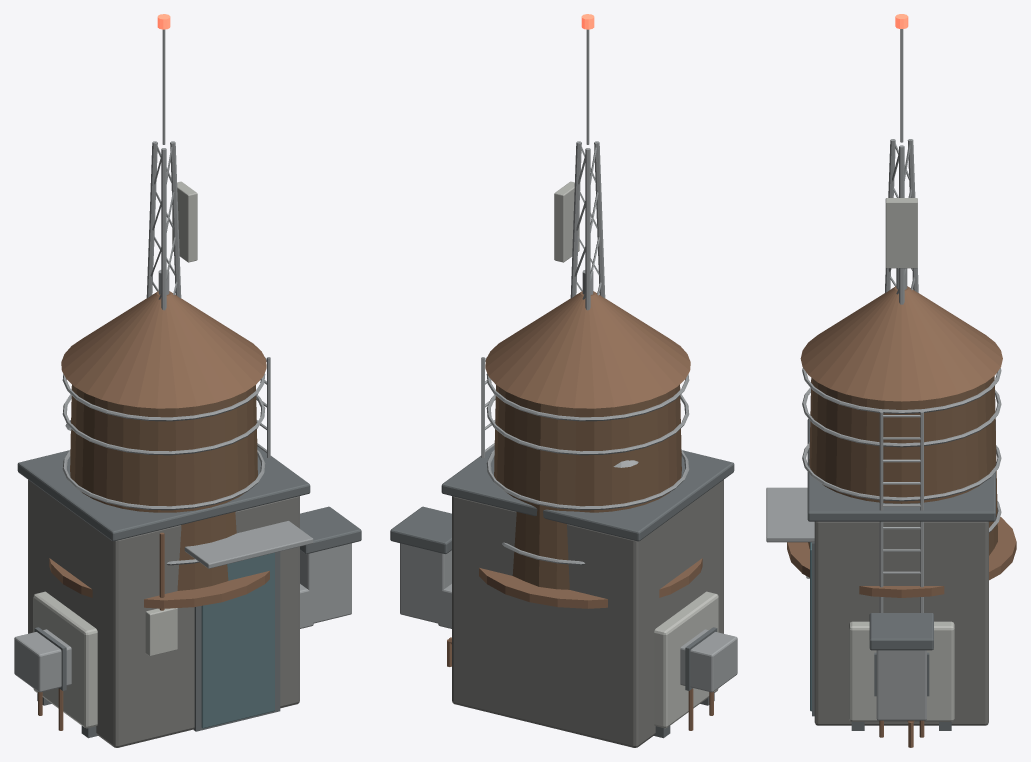
Rendered from rooftop80.glb.
3 views of the same model, side by side, from view 1: azimuth 30°, elevation 25°; view 2: azimuth 150°, elevation 25°; view 3: azimuth 270°, elevation 25° (orthographic).
Parts seen in each view (by area): view 1: shack-body, wt-barrel, wt-cap, shack-door, shack-cap, hvacwide-cab, duct-elbow, duct-run, shack-canopy, wt-deck, shack-frame, duct-hood (+8 smaller); view 2: shack-body, wt-barrel, wt-cap, shack-cap, hvacwide-cab, duct-elbow, duct-run, wt-deck, duct-hood, mast-panel.001, wt-hoop.002, wt-hoop.001 (+4 smaller); view 3: shack-body, wt-barrel, wt-cap, shack-cap, hvacwide-cab, duct-elbow, wt-deck, shack-canopy, duct-hood, mast-panel.001, wt-hoop.002, wt-hoop.001 (+8 smaller).
Boxes of the visible parts, x1,y1,x2,y2 form: shack-body: (28, 480, 299, 747); wt-barrel: (70, 384, 257, 590); wt-cap: (61, 291, 266, 408); shack-door: (201, 552, 274, 728); shack-cap: (17, 446, 310, 541); hvacwide-cab: (33, 591, 97, 728); duct-elbow: (300, 543, 351, 623); duct-run: (14, 584, 313, 692); shack-canopy: (184, 521, 313, 568); wt-deck: (49, 558, 269, 608); shack-frame: (193, 551, 280, 731); duct-hood: (300, 506, 361, 554); shack-body: (452, 480, 723, 747); wt-barrel: (494, 384, 681, 589); wt-cap: (485, 291, 690, 408); shack-cap: (441, 446, 734, 541); hvacwide-cab: (654, 591, 718, 728); duct-elbow: (400, 543, 451, 623); duct-run: (438, 584, 737, 692); wt-deck: (479, 558, 702, 608); duct-hood: (390, 506, 451, 554); mast-panel.001: (554, 181, 579, 262); wt-hoop.002: (486, 394, 689, 455); wt-hoop.001: (486, 449, 689, 510); shack-body: (814, 521, 988, 725); wt-barrel: (808, 376, 997, 555); wt-cap: (800, 286, 1002, 401); shack-cap: (807, 418, 995, 521); hvacwide-cab: (849, 621, 954, 721); duct-elbow: (876, 650, 926, 720); wt-deck: (787, 517, 1016, 597); shack-canopy: (766, 487, 814, 542); duct-hood: (869, 613, 933, 650); mast-panel.001: (885, 198, 917, 268); wt-hoop.002: (802, 387, 1001, 447); wt-hoop.001: (802, 442, 1001, 501).
Bounding box in the file's own units: 3.95 × 8.02 × 2.73.
